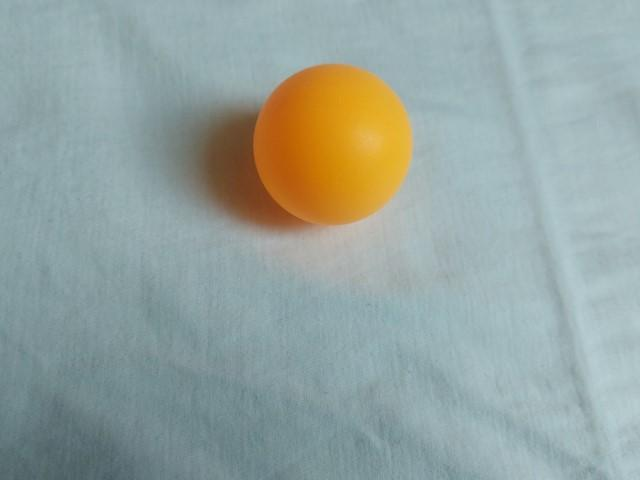oball: (240, 55, 426, 234)
